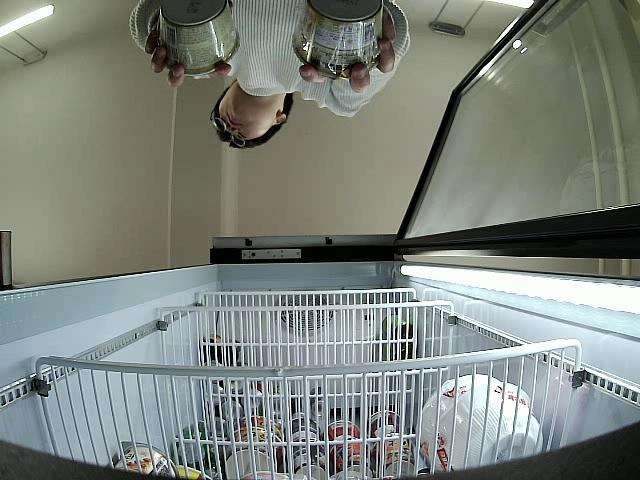00_hand: (298, 10, 397, 93), (144, 29, 231, 88)
04_chapagetti_S: (292, 0, 386, 79), (156, 0, 241, 75)
